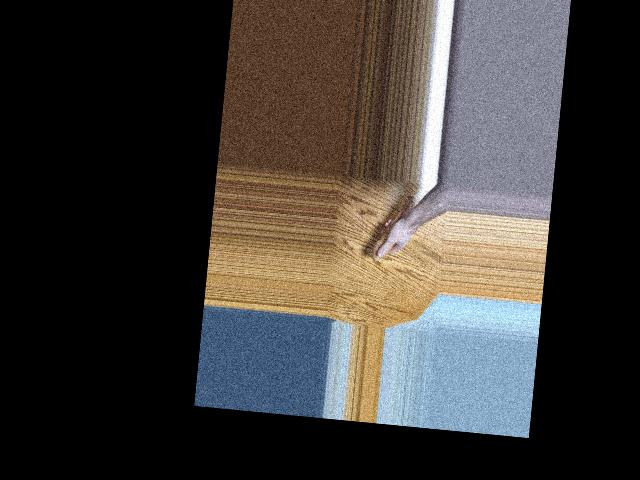sweet_potato: (373, 191, 417, 261)
